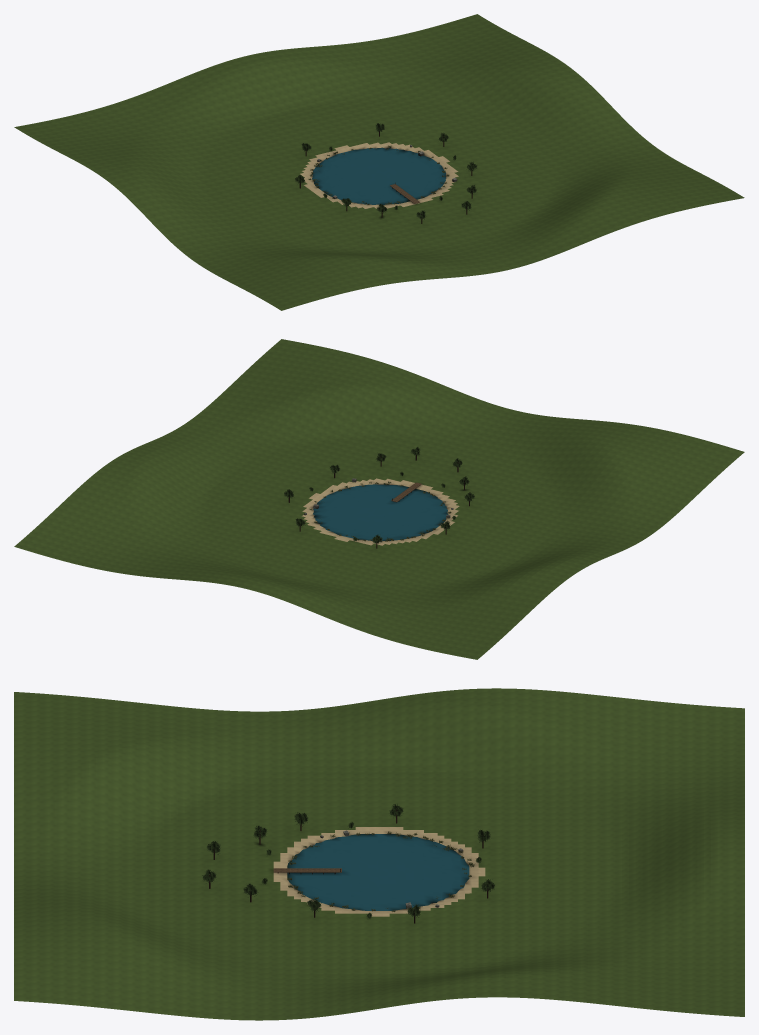
The model's file is lakeshore.glb.
3 views of the same model, one above another, from view 1: azimuth 30°, elevation 25°; view 2: azimuth 150°, elevation 25°; view 3: azimuth 270°, elevation 25° (orthographic). The views are drawn at different scales.
Visible parts, largest first — view 1: lakeshore; view 2: lakeshore; view 3: lakeshore.
Boxes of the visible parts, x1=… form: lakeshore: x1=14, y1=14, x2=744, y2=310; lakeshore: x1=14, y1=339, x2=744, y2=659; lakeshore: x1=14, y1=688, x2=744, y2=1020.
Size of the model in its own units: 160 by 9.85 by 160.
9 materials, 9 textured.
